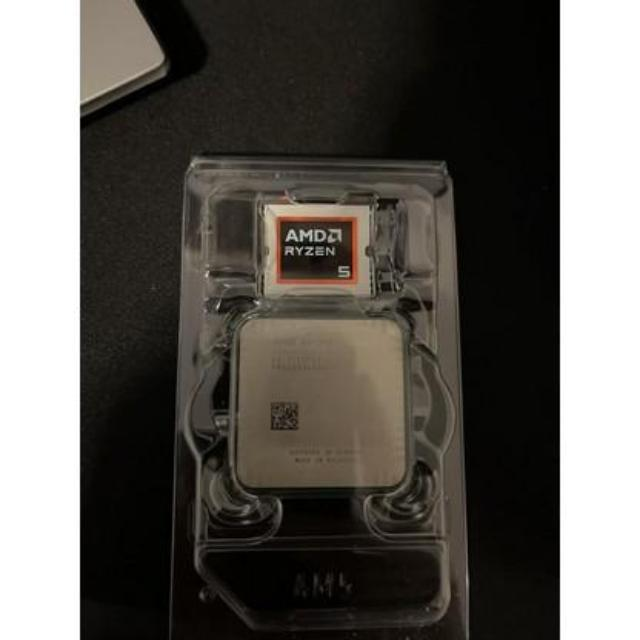CPU: (236, 317, 410, 492)
